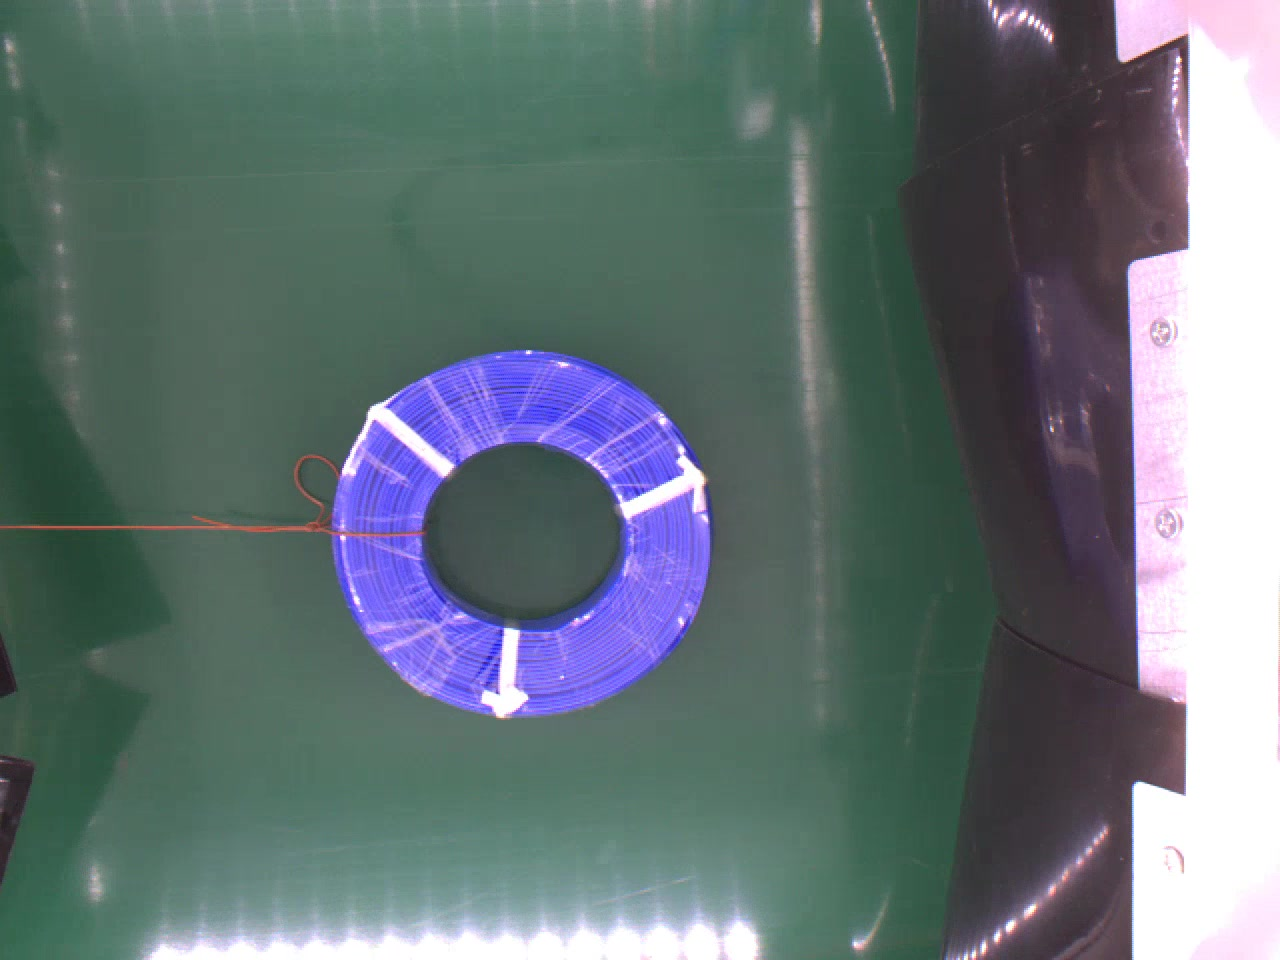blue: (323, 342, 718, 724)
